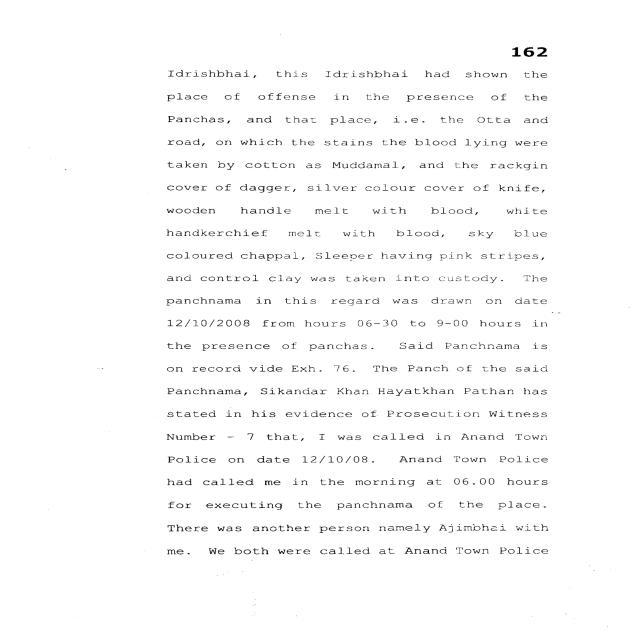page-number: (433, 0, 633, 64)
